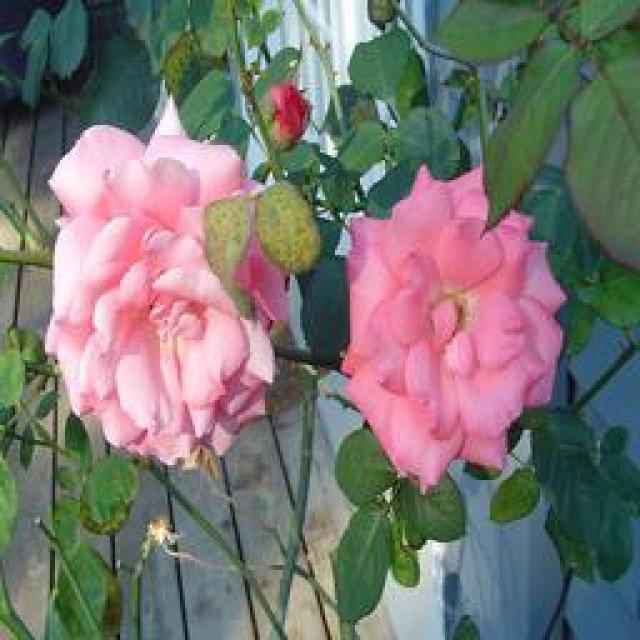rose: (342, 152, 592, 490)
